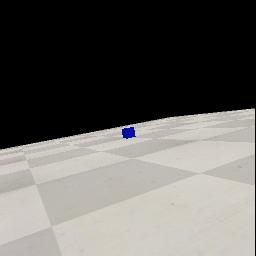box: (122, 127, 136, 139)
